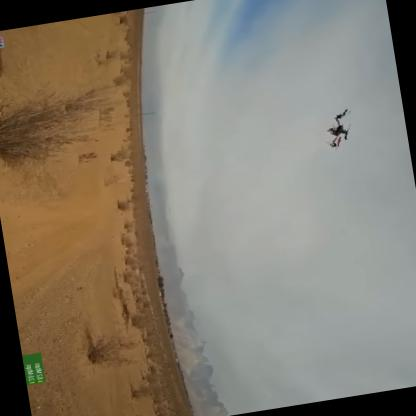drone: (315, 105, 363, 155)
